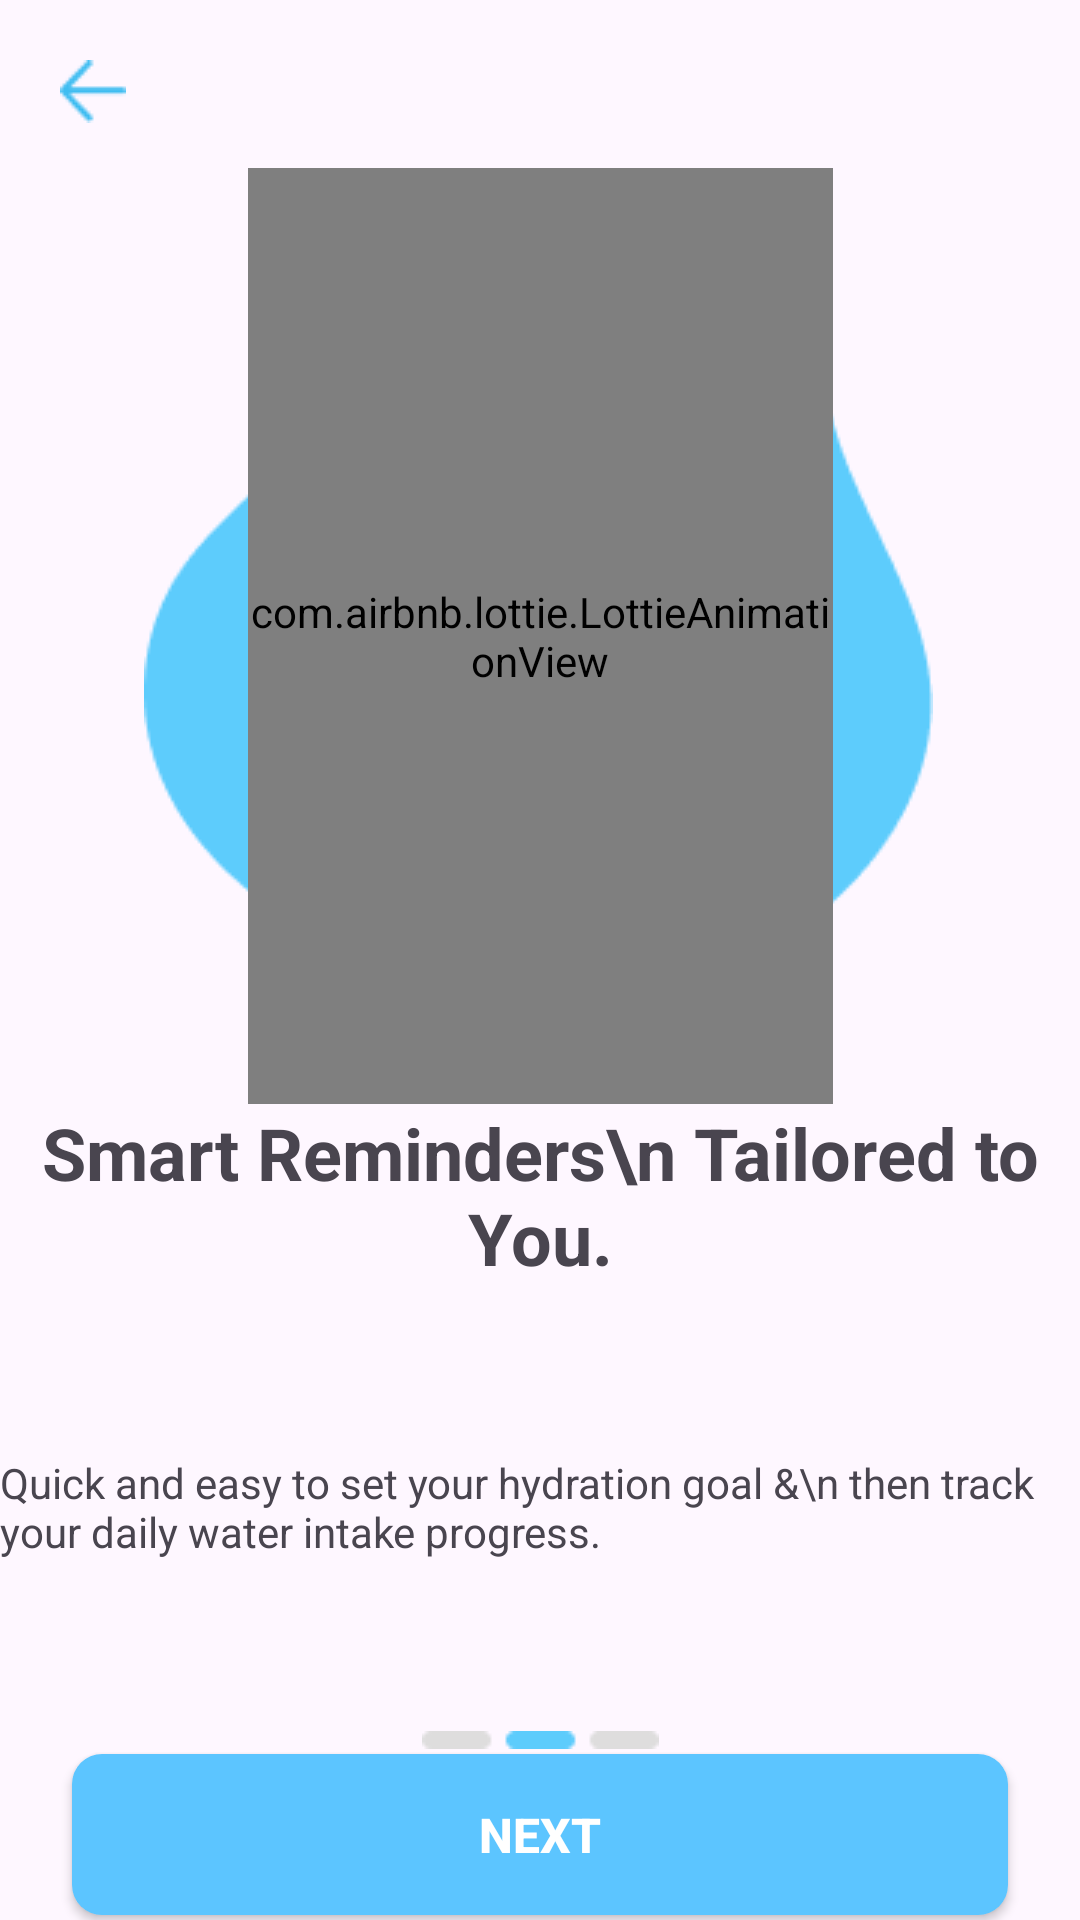

Icon bounding boxes for this 1080x1920 phone screenshot, format bbox(x1, y1, x2, y2):
back: bbox(60, 60, 126, 123)
